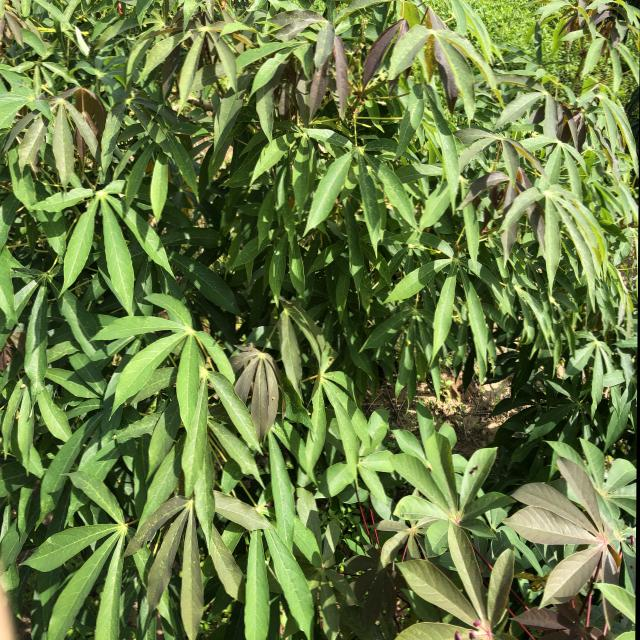Mosca: (462, 460, 490, 480)
